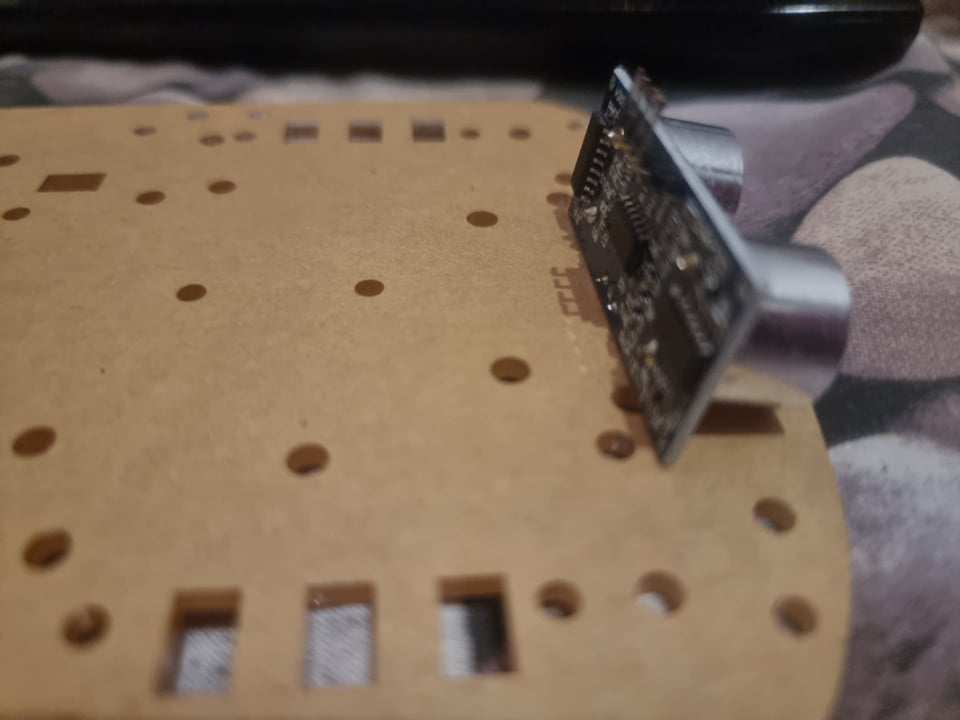SENSOR: (561, 66, 854, 468)
